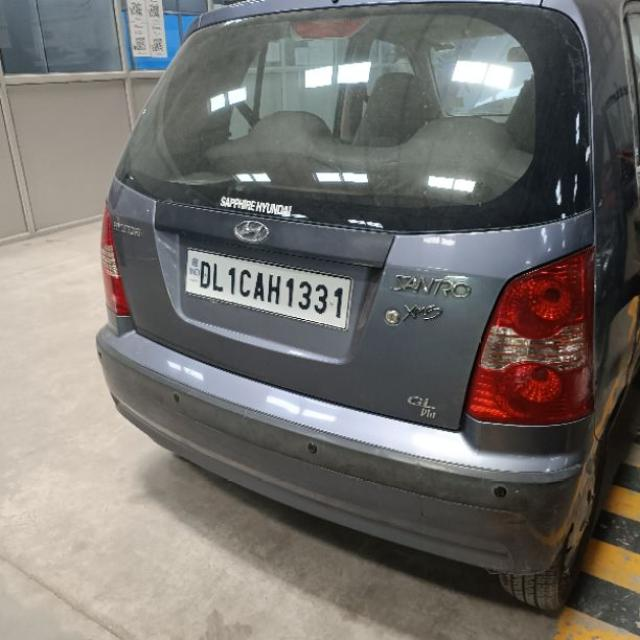license_plate: (182, 246, 353, 332)
